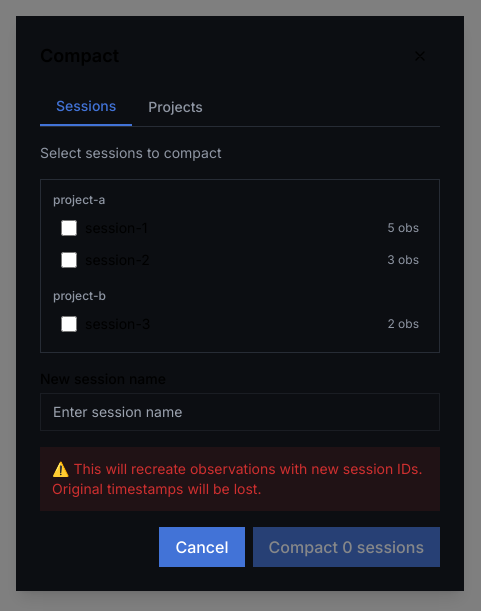
CompactModal › projects tab button states › should enable compact projects button when project selected and target entered
Switch to projects tab
Step 1. Click the button "Projects" → (176, 106), box [132, 88, 219, 126]
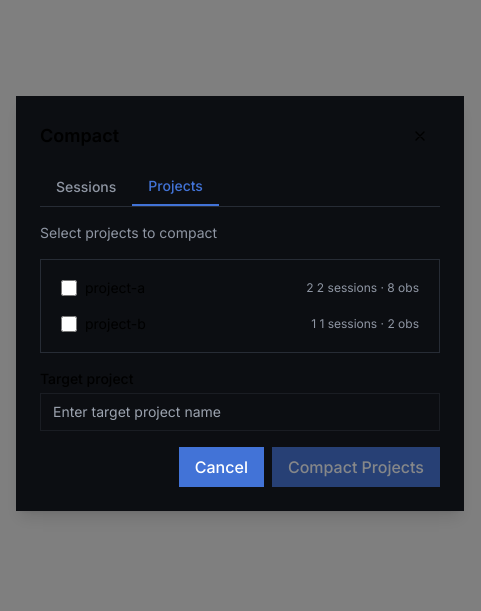
Select a project
Step 2. Click the checkbox labelled "project-a 2 2 sessions · 8 obs" → (69, 288), box [61, 280, 77, 296]
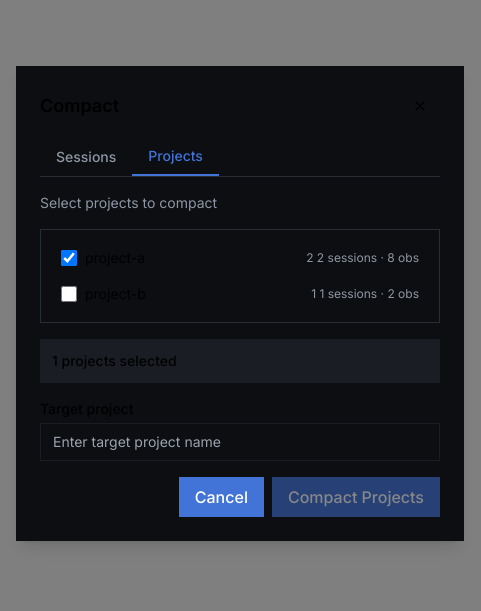
Enter target project name
Step 3. Type "Target Project" into the field with placeholder "Enter target project name" → (240, 442), box [40, 422, 440, 460]
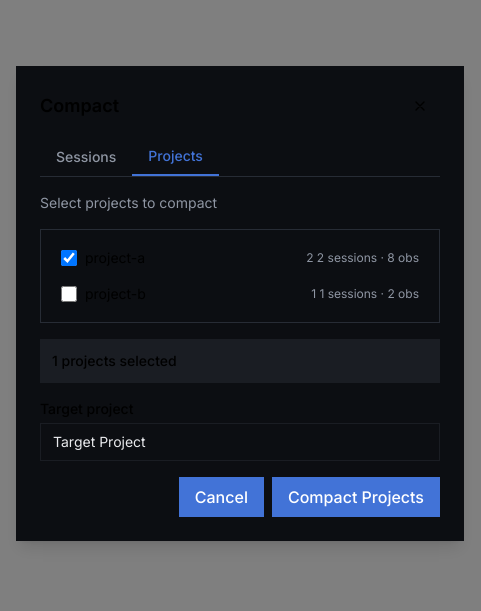
Now the button "Compact Projects" is enabled, box [272, 476, 440, 516]
